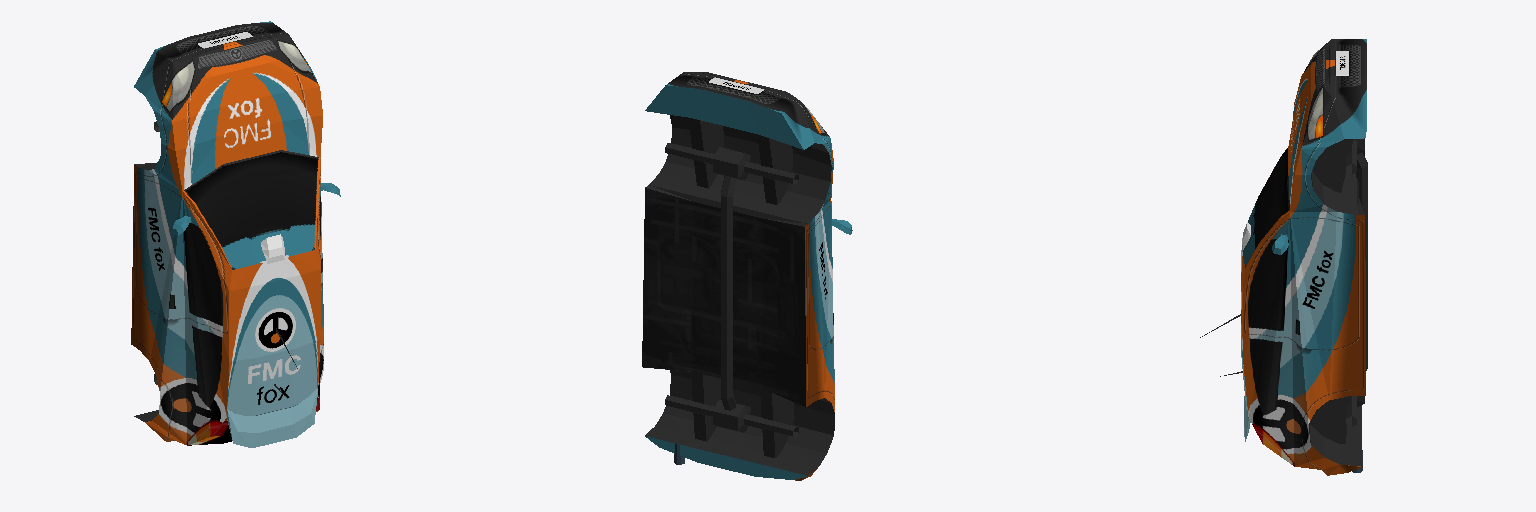
The picture shows the model from 3 angles: view 1: azimuth 30°, elevation 25°; view 2: azimuth 150°, elevation 25°; view 3: azimuth 270°, elevation 25°; orthographic projection.
Visible parts, largest first — view 1: body_Box01; view 2: body_Box01; view 3: body_Box01.
Part boxes in pixels (x1,y1,x2,y2): body_Box01: (131,21,340,447); body_Box01: (642,72,852,480); body_Box01: (1200,39,1367,475).
Size of the model in its own units: 3.54 by 7.81 by 3.23.
1 materials, 1 textured.